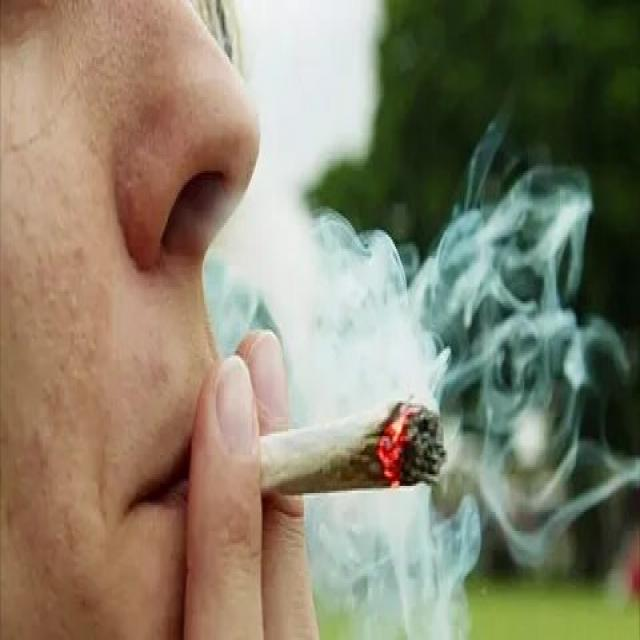smoke: (248, 384, 453, 529)
